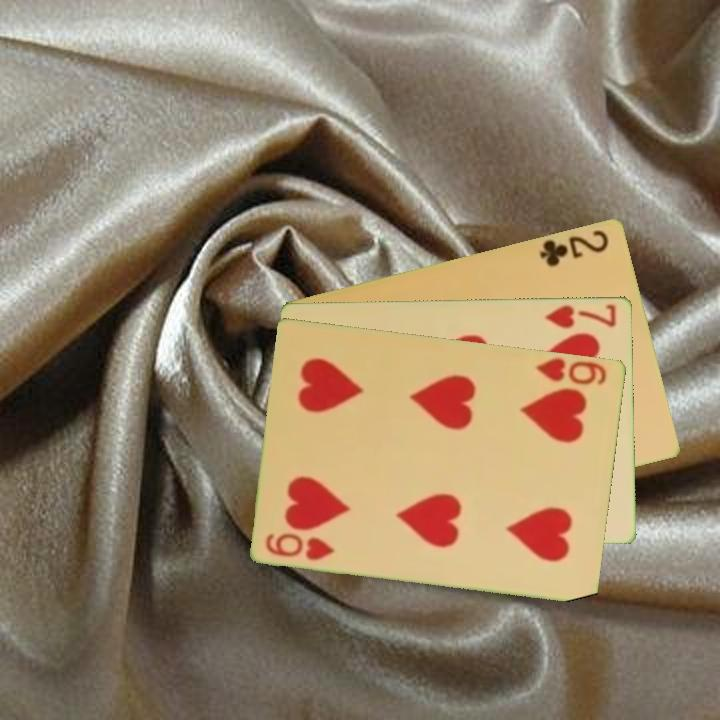2c: (536, 226, 612, 269)
6h: (533, 354, 610, 388), (262, 529, 338, 563)
7h: (542, 300, 620, 331)
